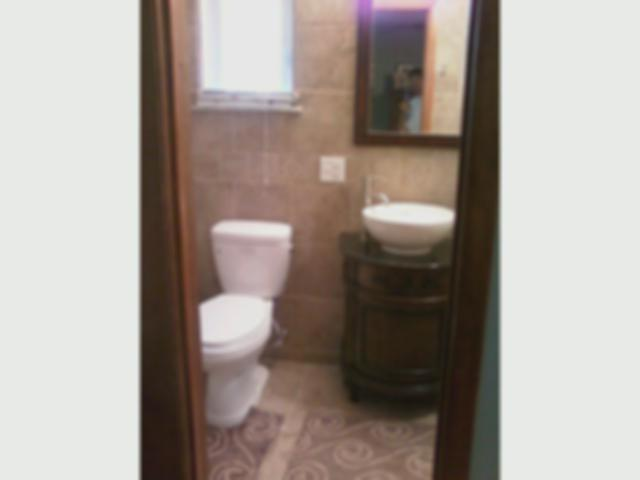Lavamanos: (355, 174, 461, 255)
Sanitario: (174, 225, 292, 426)
